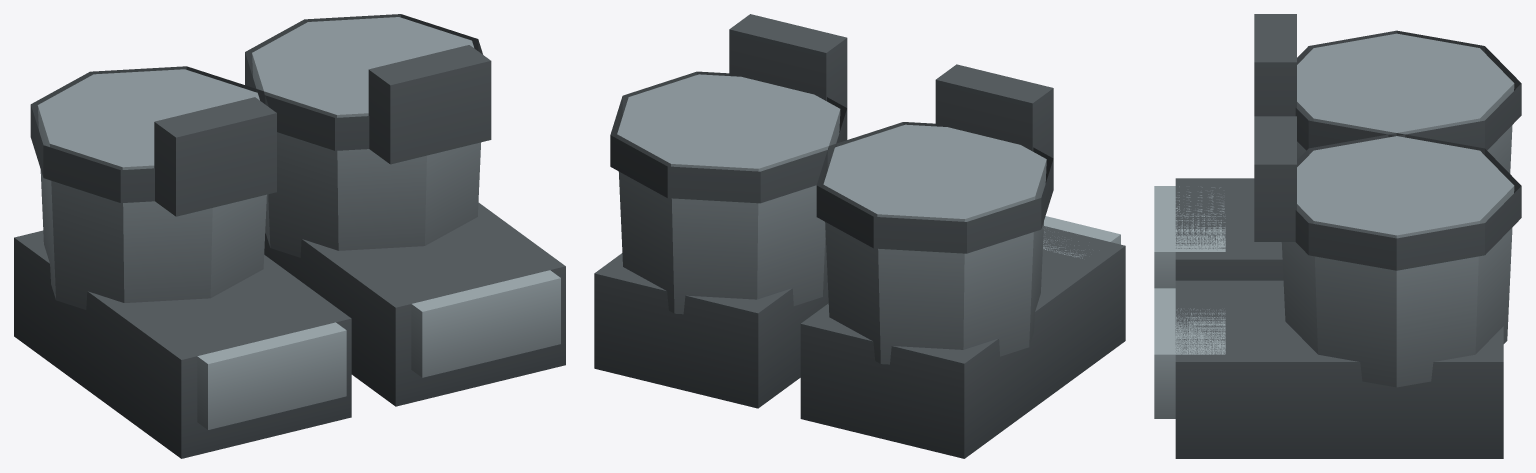
File: guard_boots_t1.glb
3 renders of one model, left to right at view 1: azimuth 30°, elevation 25°; view 2: azimuth 150°, elevation 25°; view 3: azimuth 270°, elevation 25°, orthographic. The views are drawn at different scales.
Visible parts, largest first — view 1: guard_boots_t1__lowerleg_r, guard_boots_t1__lowerleg_l, guard_boots_t1__foot_r, guard_boots_t1__foot_l; view 2: guard_boots_t1__lowerleg_r, guard_boots_t1__lowerleg_l, guard_boots_t1__foot_r, guard_boots_t1__foot_l; view 3: guard_boots_t1__lowerleg_l, guard_boots_t1__foot_l, guard_boots_t1__lowerleg_r, guard_boots_t1__foot_r.
Part boxes in pixels (box(x1,y1,x2,y2)): guard_boots_t1__lowerleg_r: box(30, 66, 276, 309); guard_boots_t1__lowerleg_l: box(245, 14, 491, 257); guard_boots_t1__foot_r: box(14, 230, 351, 458); guard_boots_t1__foot_l: box(264, 202, 565, 406); guard_boots_t1__lowerleg_r: box(816, 64, 1053, 364); guard_boots_t1__lowerleg_l: box(610, 14, 847, 314); guard_boots_t1__foot_r: box(800, 216, 1125, 458); guard_boots_t1__foot_l: box(594, 253, 828, 408); guard_boots_t1__lowerleg_l: box(1254, 116, 1521, 387); guard_boots_t1__foot_l: box(1154, 280, 1503, 458); guard_boots_t1__lowerleg_r: box(1254, 14, 1521, 173); guard_boots_t1__foot_r: box(1154, 178, 1283, 288).
Bounding box in the file's own units: 0.69 × 0.43 × 0.515.
Materials: 1 (1 with a texture image).
